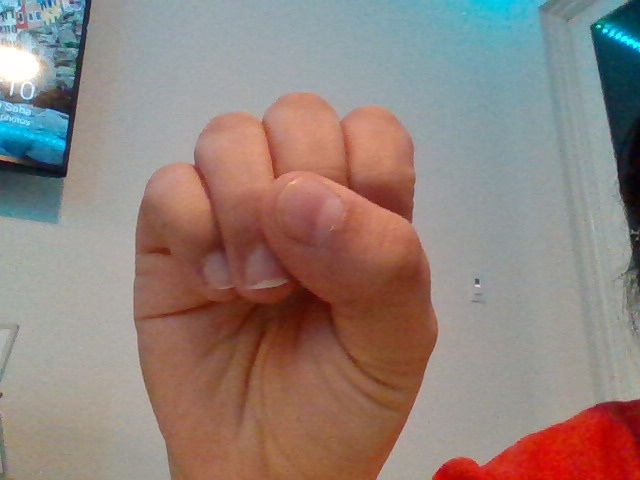e: (132, 94, 439, 476)
